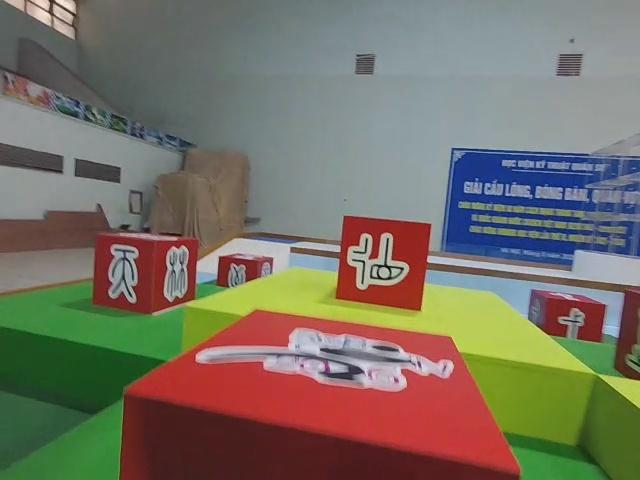R1: (118, 306, 522, 480)
R2 Fake: (91, 229, 201, 316), (215, 252, 274, 293)
R2 Real: (334, 211, 434, 313), (527, 286, 608, 346)
